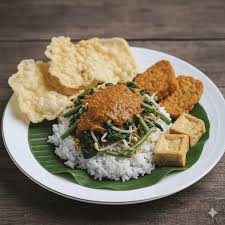Nasi pecel: (9, 29, 207, 181)
